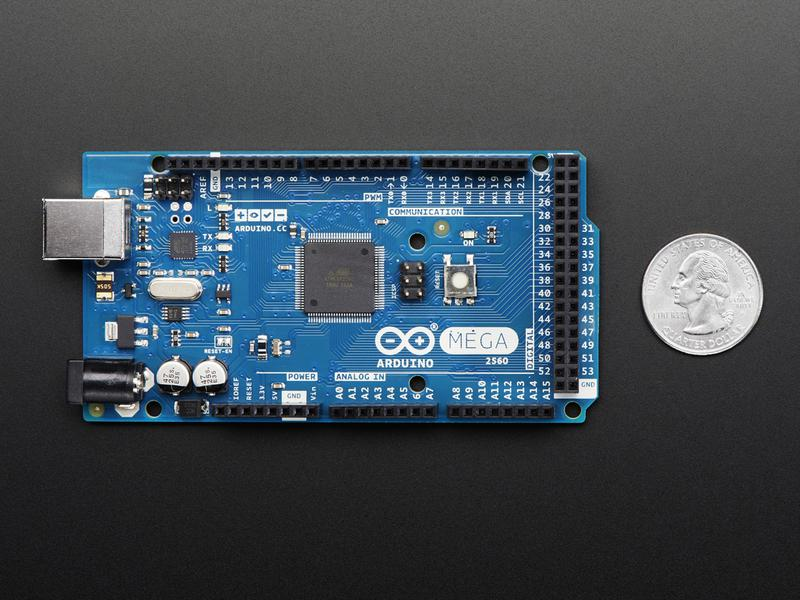Arduino Mega: (38, 140, 603, 436)
